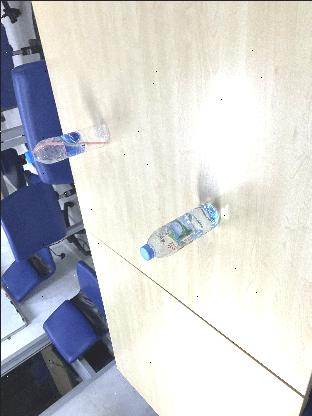Plastic Bottle: (138, 200, 219, 260), (25, 118, 109, 165)
